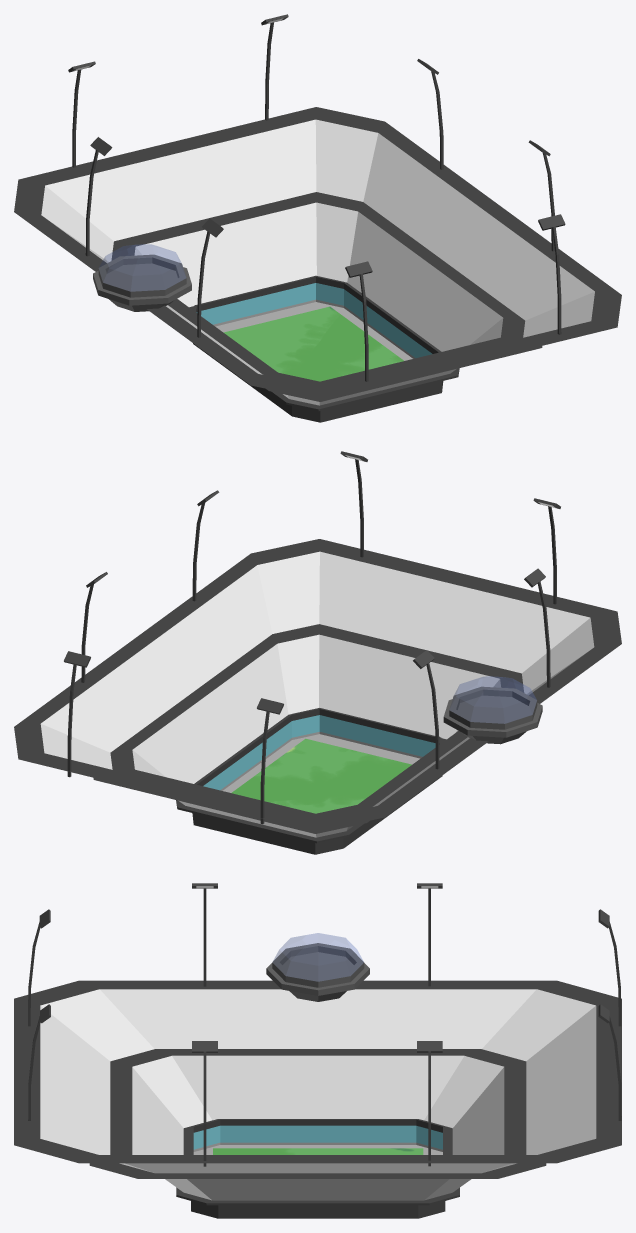
The model's file is FullArena.fbx.
3 renders of one model, top to bottom at view 1: azimuth 30°, elevation 25°; view 2: azimuth 150°, elevation 25°; view 3: azimuth 270°, elevation 25°, orthographic.
Parts seen in each view (by area): view 1: ArenaAudienceUpperwall, AreanAudienceLowerWall, Arenafield, ArenaWall, ArenaWatchTower, ArenaScreen, Arenaground, Lamp8, Lamp7, Lamp1, Lamp2, Lamp5; view 2: ArenaAudienceUpperwall, AreanAudienceLowerWall, Arenafield, ArenaWall, ArenaWatchTower, ArenaScreen, Arenaground, Lamp5, Lamp6, Lamp2, Lamp1; view 3: ArenaAudienceUpperwall, AreanAudienceLowerWall, ArenaWall, ArenaWatchTower, ArenaScreen, Arenaground, Arenafield, Lamp3, Lamp4, Lamp1, Lamp6, Lamp5 (+2 smaller).
Boxes of the visible parts, left/top/right/bottom form: ArenaAudienceUpperwall: left=14, top=107, right=621, bottom=399; AreanAudienceLowerWall: left=111, top=192, right=542, bottom=405; Arenafield: left=223, top=306, right=403, bottom=381; ArenaWall: left=189, top=275, right=459, bottom=422; ArenaWatchTower: left=93, top=244, right=191, bottom=311; ArenaScreen: left=196, top=283, right=432, bottom=358; Arenaground: left=213, top=299, right=414, bottom=360; Lamp8: left=538, top=214, right=565, bottom=334; Lamp7: left=345, top=261, right=372, bottom=381; Lamp1: left=197, top=218, right=223, bottom=337; Lamp2: left=85, top=137, right=112, bottom=256; Lamp5: left=68, top=61, right=95, bottom=167; ArenaAudienceUpperwall: left=14, top=539, right=621, bottom=831; AreanAudienceLowerWall: left=93, top=624, right=524, bottom=837; Arenafield: left=231, top=738, right=411, bottom=813; ArenaWall: left=176, top=708, right=446, bottom=854; ArenaWatchTower: left=443, top=676, right=542, bottom=744; ArenaScreen: left=203, top=715, right=435, bottom=790; Arenaground: left=220, top=731, right=422, bottom=792; Lamp5: left=257, top=698, right=283, bottom=824; Lamp6: left=64, top=651, right=90, bottom=777; Lamp2: left=413, top=650, right=439, bottom=769; Lamp1: left=524, top=568, right=550, bottom=687; ArenaAudienceUpperwall: left=14, top=980, right=621, bottom=1173; AreanAudienceLowerWall: left=89, top=1049, right=546, bottom=1200; ArenaWall: left=176, top=1119, right=459, bottom=1218; ArenaWatchTower: left=266, top=933, right=369, bottom=1001; ArenaScreen: left=193, top=1125, right=442, bottom=1149; Arenaground: left=193, top=1142, right=442, bottom=1154; Arenafield: left=213, top=1148, right=423, bottom=1154; Lamp3: left=192, top=1041, right=217, bottom=1166; Lamp4: left=417, top=1041, right=442, bottom=1166; Lamp1: left=192, top=883, right=217, bottom=986; Lamp6: left=598, top=1004, right=621, bottom=1120; Lamp5: left=598, top=909, right=621, bottom=1026.
Size of the model in its own units: 34687 by 17867 by 44675.
